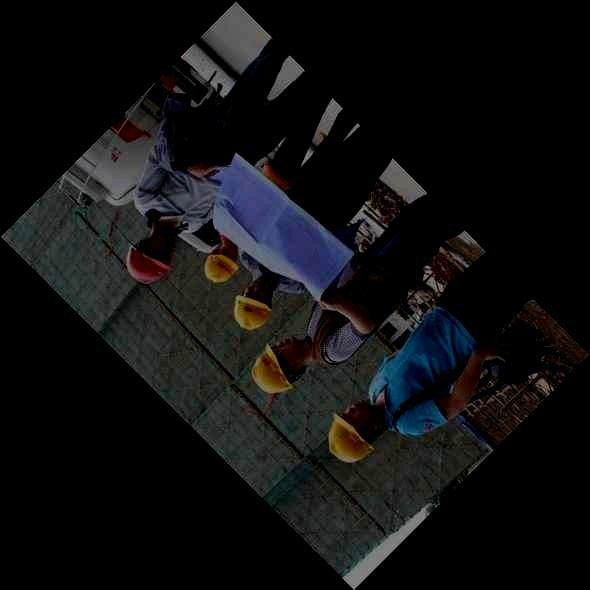helmet: (327, 397, 386, 463), (250, 336, 308, 394), (126, 234, 176, 286), (233, 278, 274, 331), (203, 243, 240, 284)
